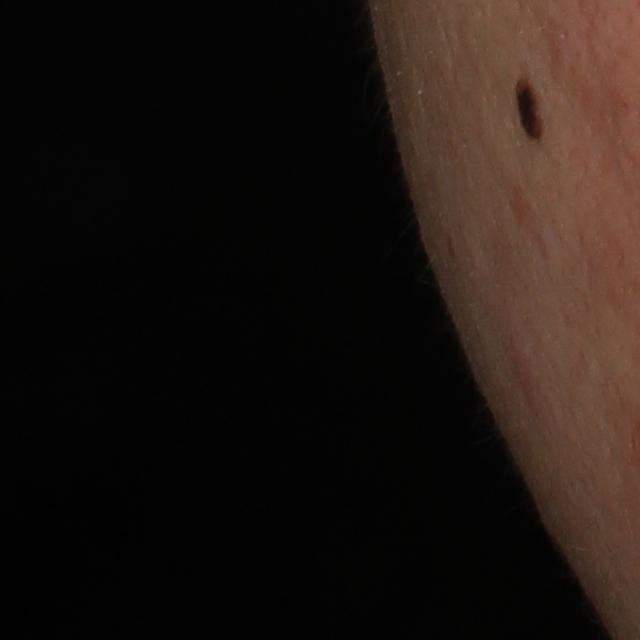nevus: (512, 67, 551, 149)
